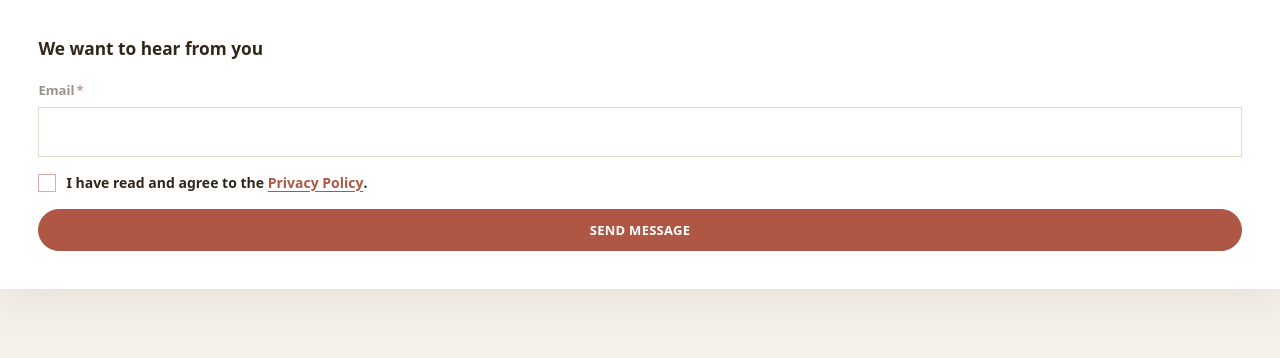
Scenario: ContactForm — validation derived from field type › an email-type field rejects an invalid email
This screenshot has width=1280, height=358.
Type "not-an-email" into the field labelled "Email*" at (640, 132), box [38,107,1242,156]
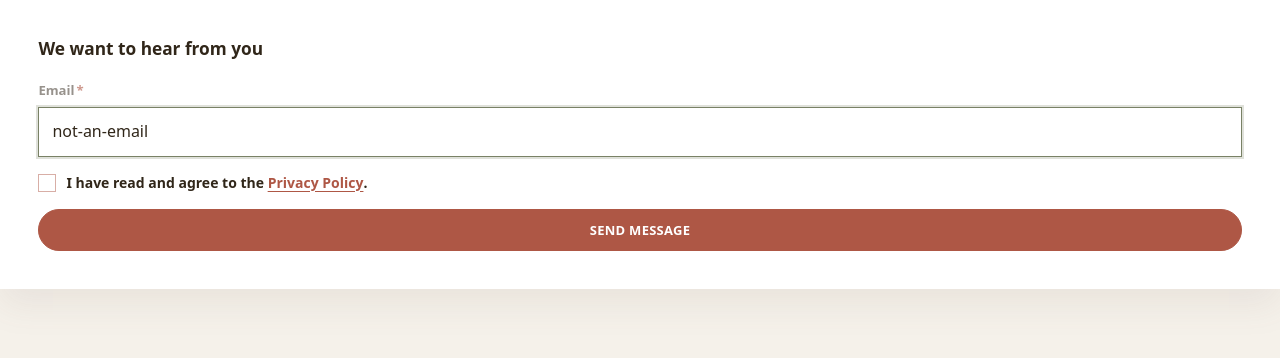
Click the button "Send message" at (640, 230), box [38,209,1242,251]
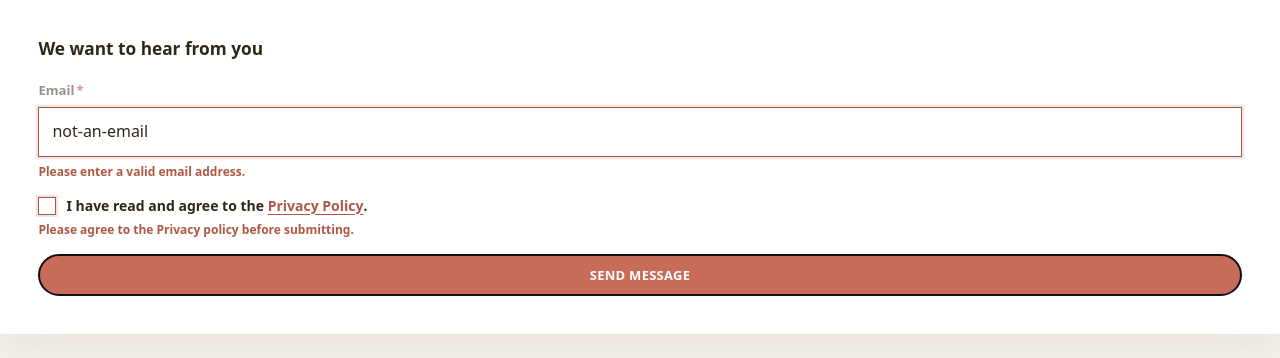
Check: the text "Please enter a valid email address." is shown, box [38,162,245,180]
